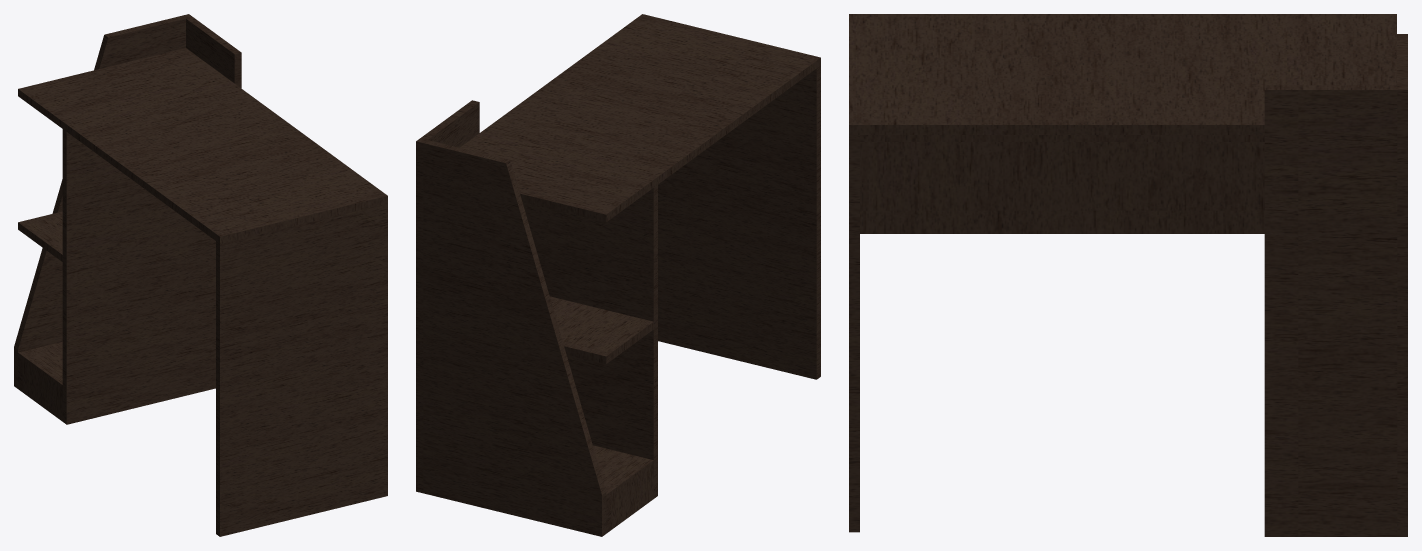
The model's file is scrivania.fbx.
3 views of the same model, side by side, from view 1: azimuth 30°, elevation 25°; view 2: azimuth 150°, elevation 25°; view 3: azimuth 270°, elevation 25° (orthographic). The views are drawn at different scales.
Parts seen in each view (by area): view 1: scrivania; view 2: scrivania; view 3: scrivania.
Boxes of the visible parts, bbox=[...] form: scrivania: bbox=[14, 14, 387, 536]; scrivania: bbox=[416, 14, 820, 536]; scrivania: bbox=[849, 14, 1407, 536].
Size of the model in its own units: 50 by 90 by 102.
